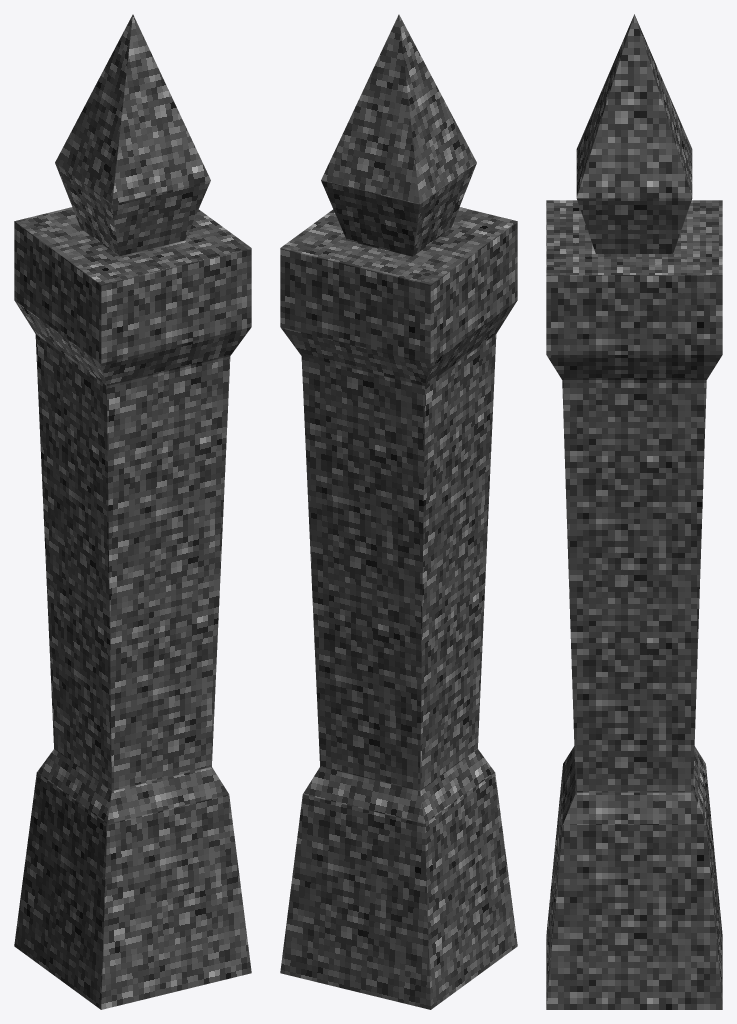
File: stonepillar.glb
3 renders of one model, left to right at view 1: azimuth 30°, elevation 25°; view 2: azimuth 150°, elevation 25°; view 3: azimuth 270°, elevation 25°, orthographic.
Visible parts, largest first — view 1: pillarSmall; view 2: pillarSmall; view 3: pillarSmall.
Part boxes in pixels (<box>): pillarSmall: <box>14,14,251,1009</box>; pillarSmall: <box>280,14,517,1009</box>; pillarSmall: <box>546,14,722,1009</box>.
Bounding box in the file's own units: 0.4005 × 2.4 × 0.4005.
1 material, 1 textured.
